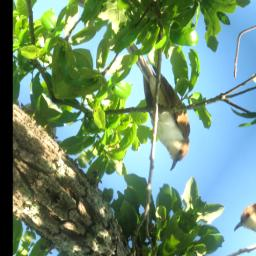Cuckoo: (87, 35, 215, 177)
